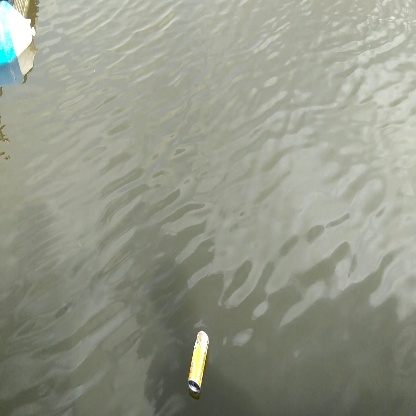bottle: (181, 328, 221, 394)
